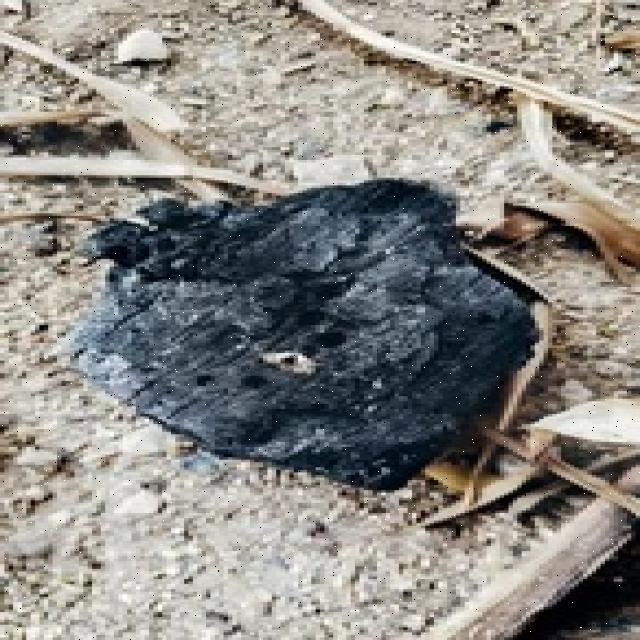Sedimentary: (70, 173, 526, 500)
